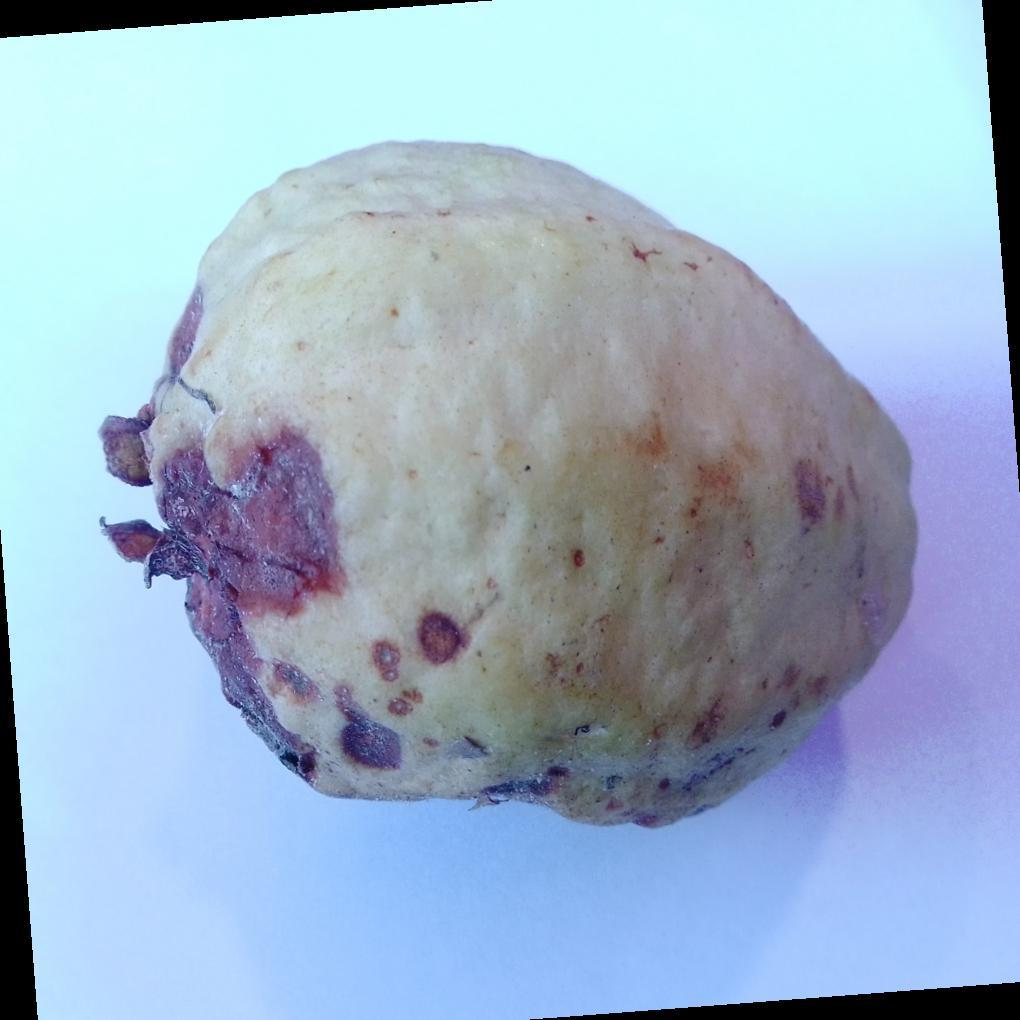FreshOrange: (102, 140, 920, 832)
